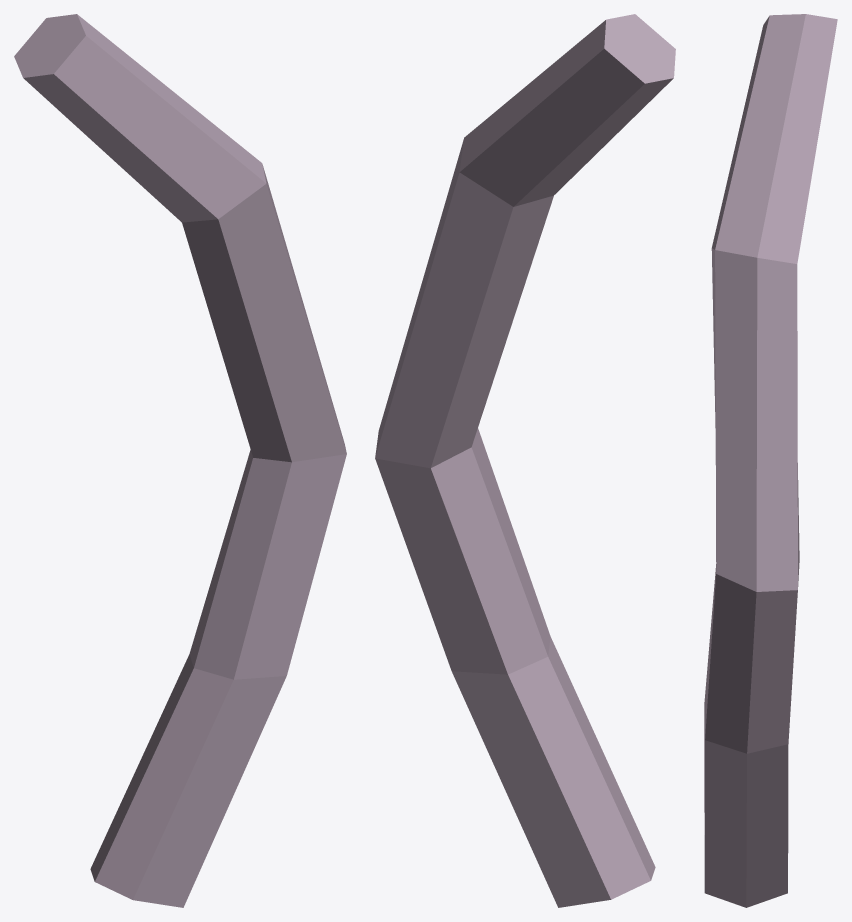
The model's file is root_single.fbx.
3 renders of one model, left to right at view 1: azimuth 30°, elevation 25°; view 2: azimuth 150°, elevation 25°; view 3: azimuth 270°, elevation 25°, orthographic. The views are drawn at different scales.
Visible parts, largest first — view 1: Cube.001; view 2: Cube.001; view 3: Cube.001.
Part boxes in pixels (x1,y1,x2,y2): Cube.001: [14, 14, 346, 907]; Cube.001: [375, 14, 675, 907]; Cube.001: [704, 14, 837, 907].
Bounding box in the file's own units: 193 × 536 × 75.48.
